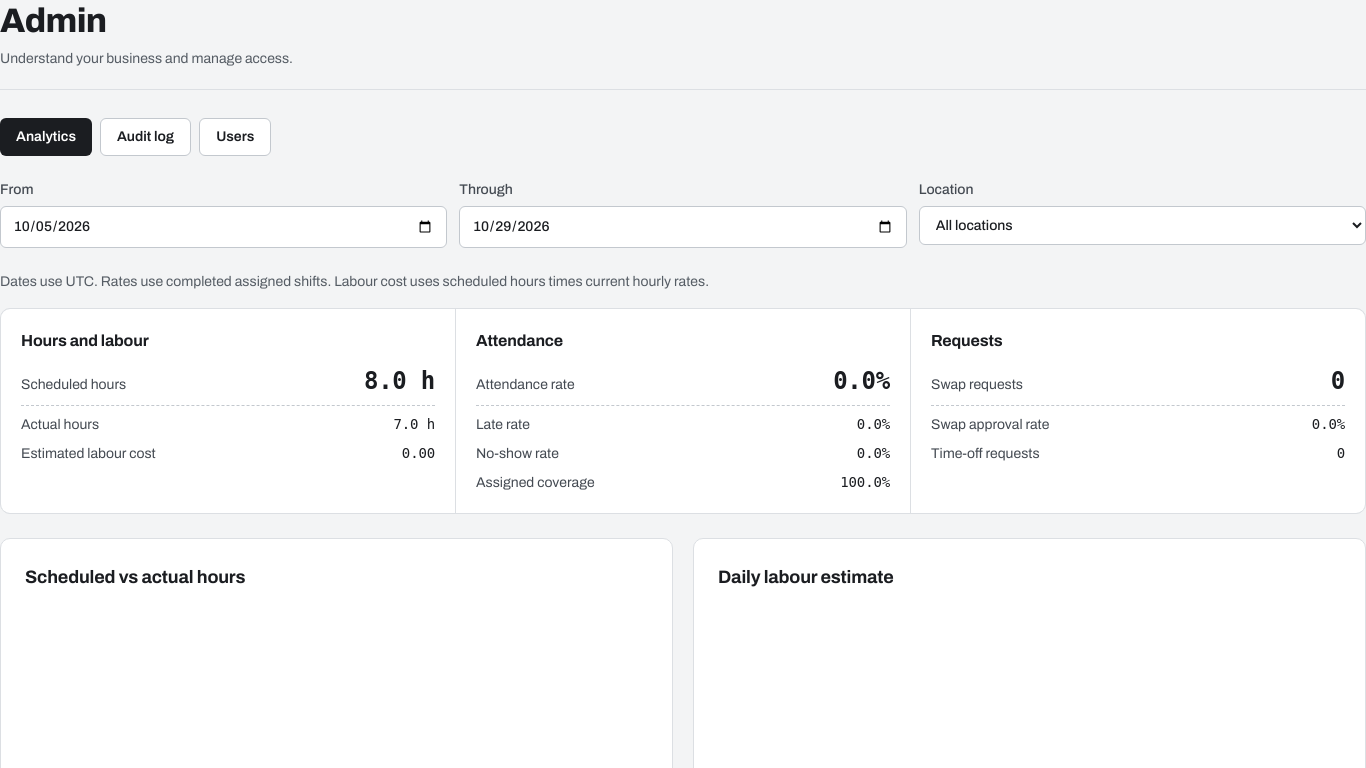
Test: requires an owner confirmation before resetting a password and shows the returned credential
Click the tab "Users".
click(235, 136)  # box [199,118,271,156]
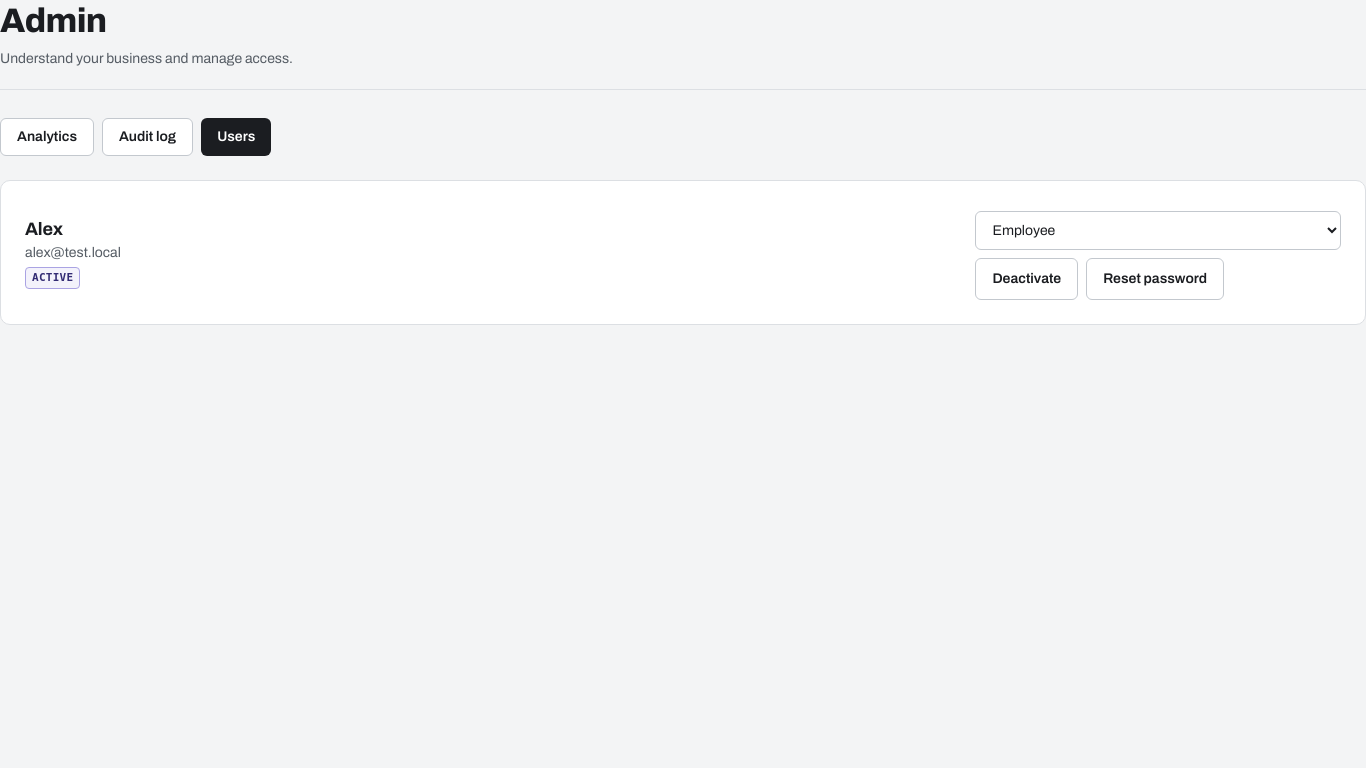
Click the button "Reset password".
click(1155, 278)  # box [1086,258,1224,300]
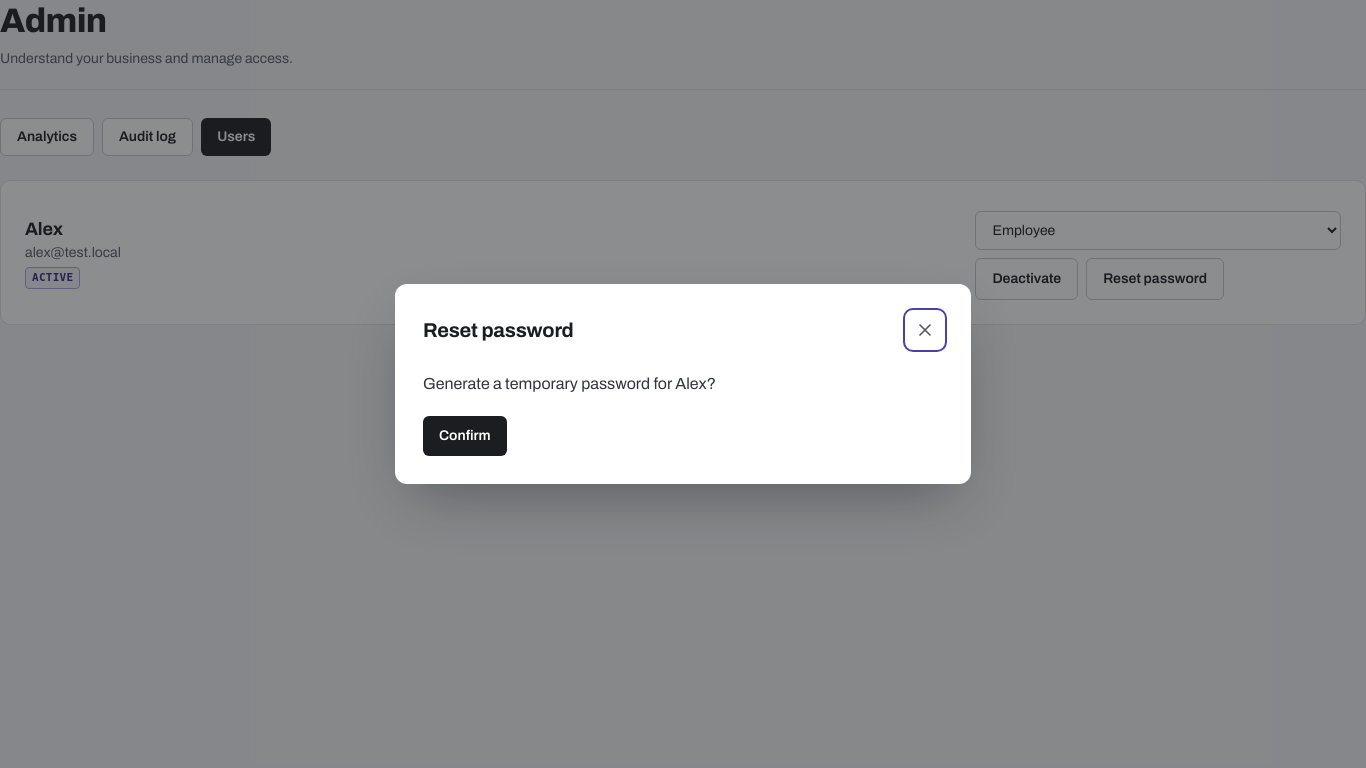
Click the button "Confirm".
click(465, 436)  # box [423,416,507,456]
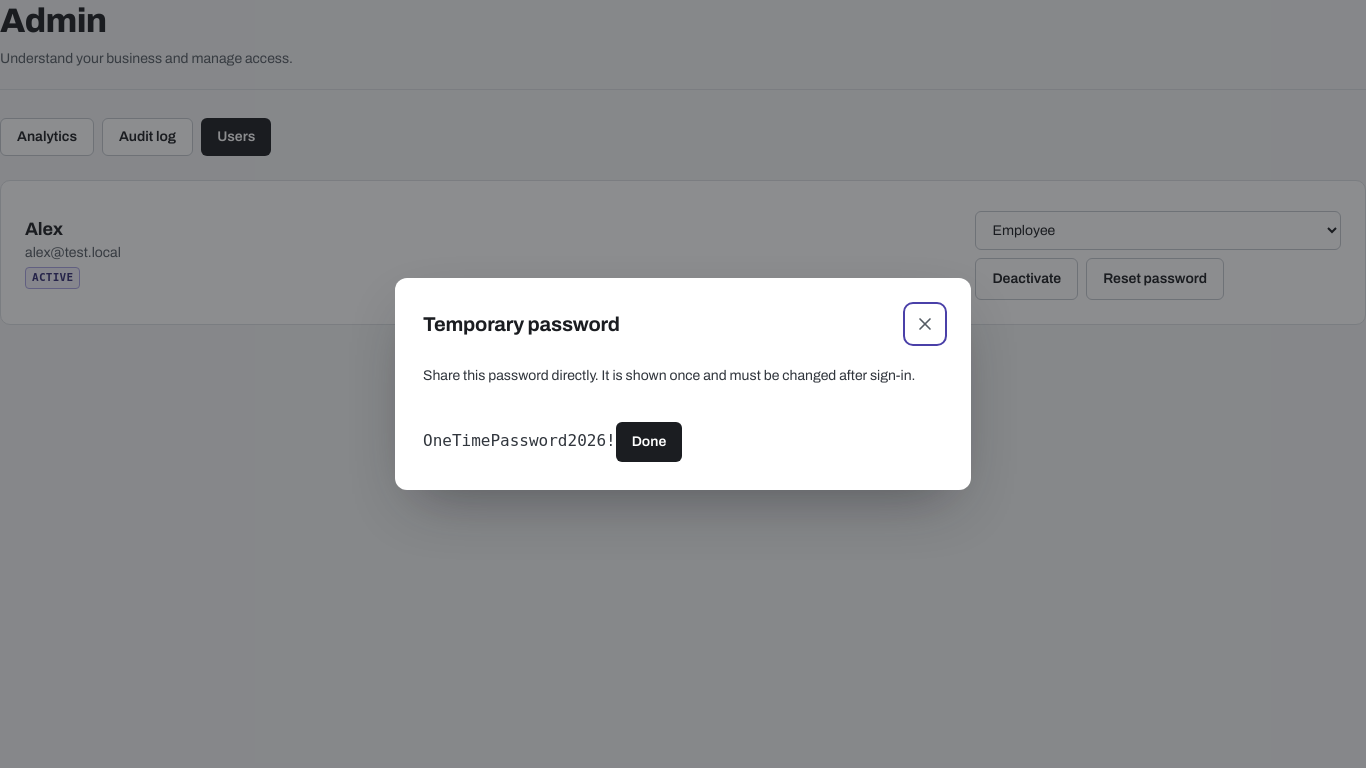
Expected: the text "OneTimePassword2026!" is shown, [423,431,616,450]
